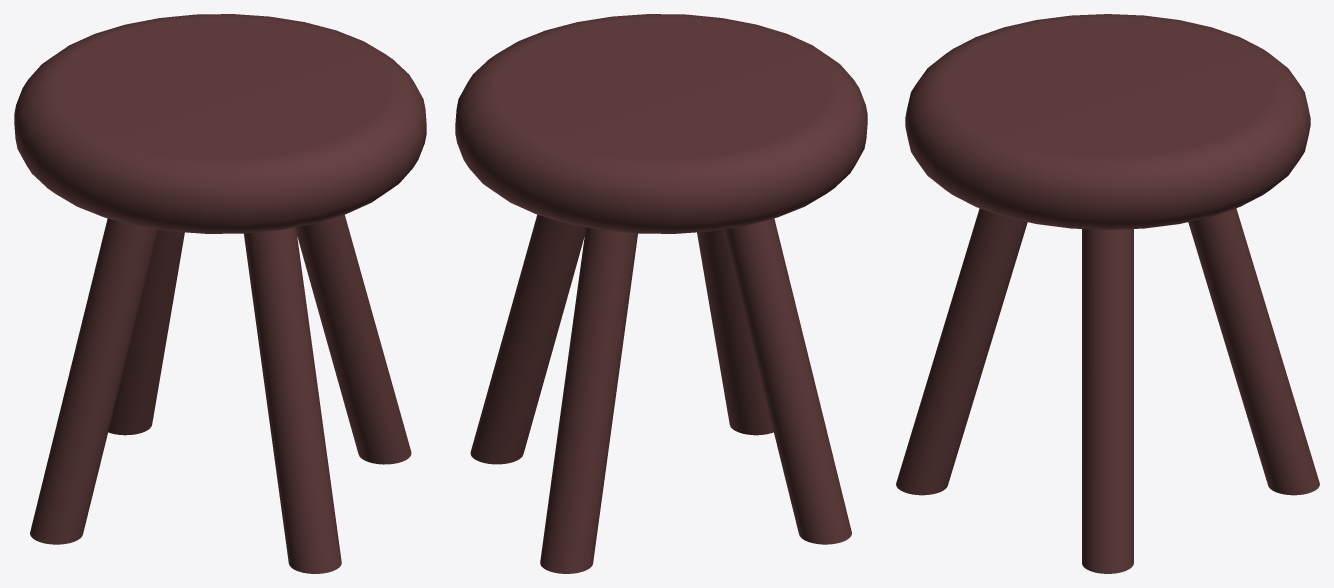
Rendered from Tabouret2_1.fbx.
The picture shows the model from 3 angles, left to right: view 1: azimuth 30°, elevation 25°; view 2: azimuth 150°, elevation 25°; view 3: azimuth 270°, elevation 25°; orthographic projection.
Visible parts, largest first — view 1: pCylinder1616, pCylinder1635; view 2: pCylinder1616, pCylinder1635; view 3: pCylinder1616, pCylinder1635.
Boxes of the visible parts, bbox=[...] form: pCylinder1616: bbox=[14, 14, 426, 233]; pCylinder1635: bbox=[30, 214, 411, 573]; pCylinder1616: bbox=[455, 14, 867, 233]; pCylinder1635: bbox=[470, 214, 851, 573]; pCylinder1616: bbox=[905, 14, 1310, 229]; pCylinder1635: bbox=[896, 208, 1319, 573].
Bounding box in the file's own units: 40.86 × 42.26 × 40.85.
